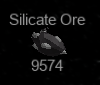Silicate: (8, 12, 86, 74)
